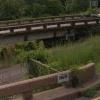Bridge: (5, 12, 92, 40)
